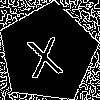X: (23, 28, 64, 79)
